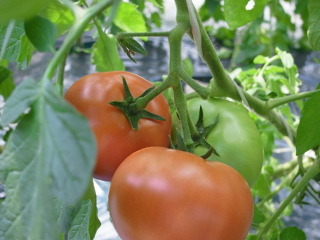stems: (131, 74, 170, 112), (186, 105, 202, 142)
tomato: (107, 146, 255, 240), (59, 71, 169, 182), (170, 97, 265, 189)
